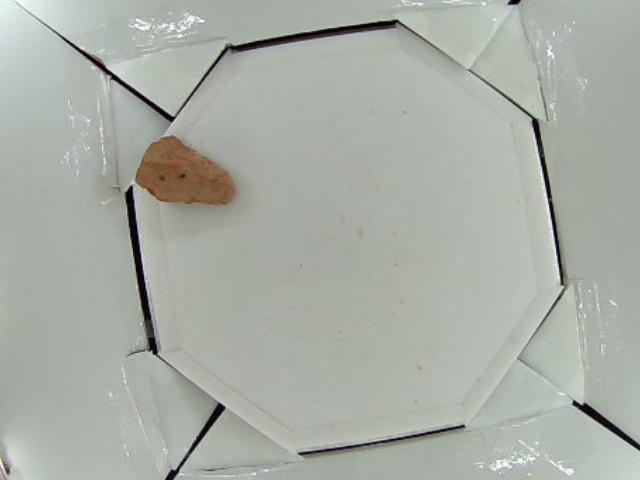Brisk: (134, 136, 235, 205)
